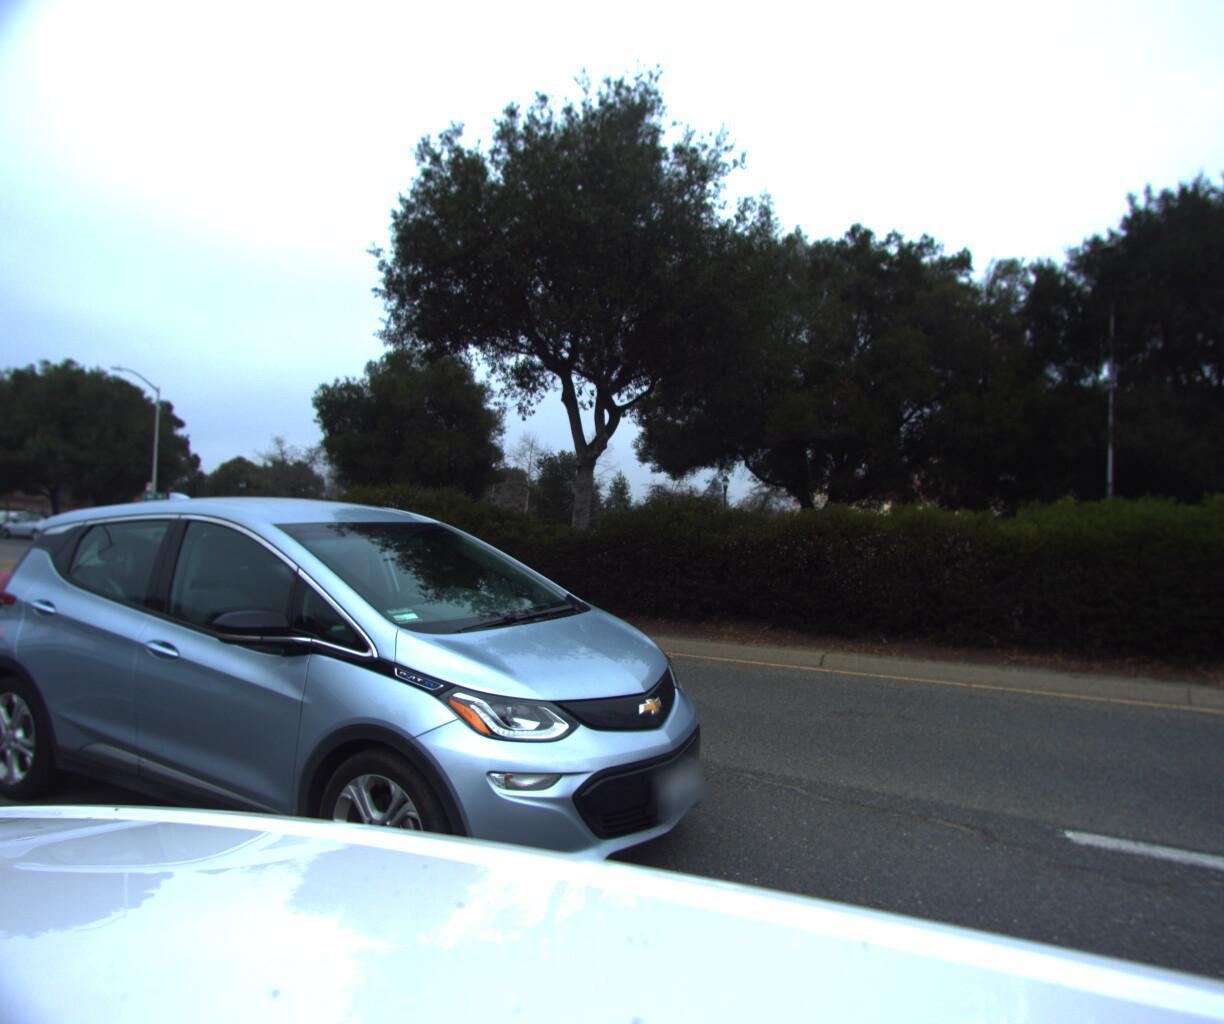car: (0, 499, 773, 1006), (147, 509, 276, 562), (91, 519, 180, 551), (0, 515, 73, 545)
